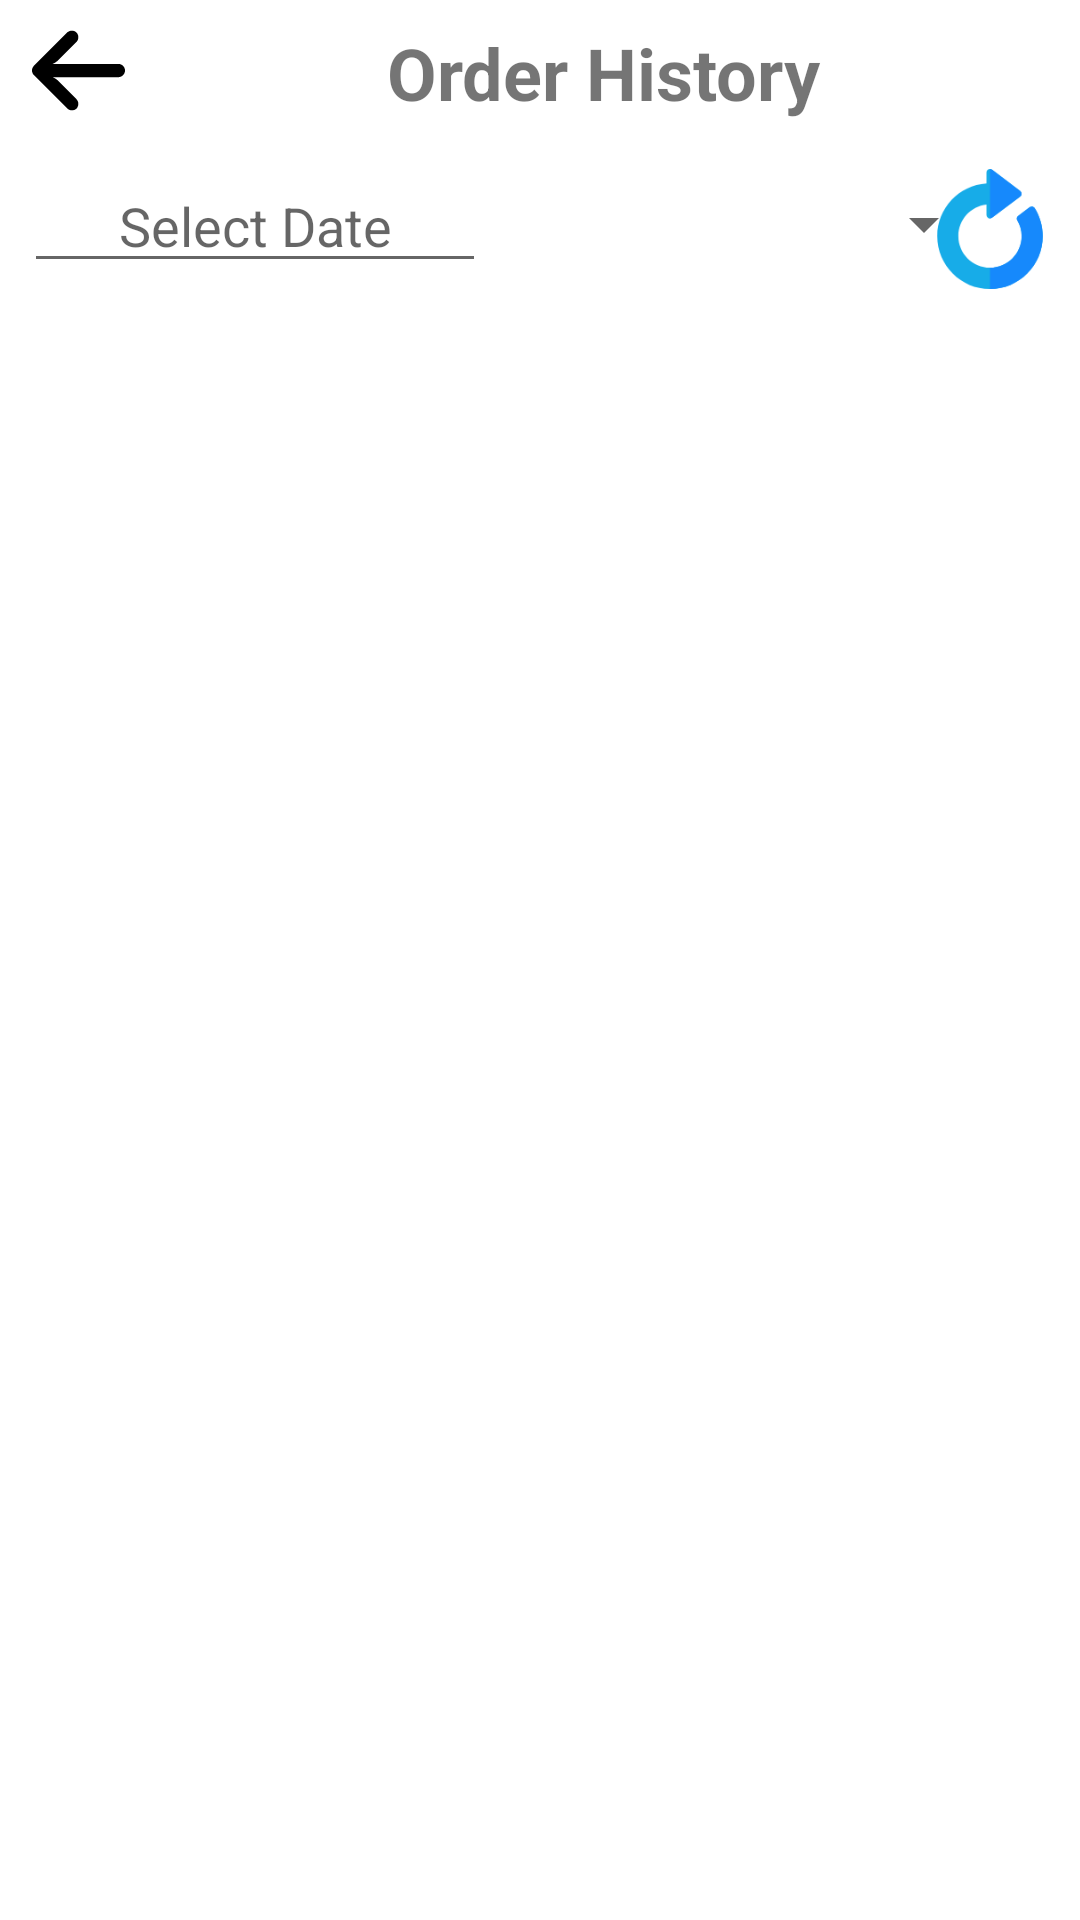

Where icons sit on this 1080x1920 app screen, as (x1, y1, x2, y2):
arrow: (32, 30, 125, 111)
refresh: (924, 169, 1043, 289)
